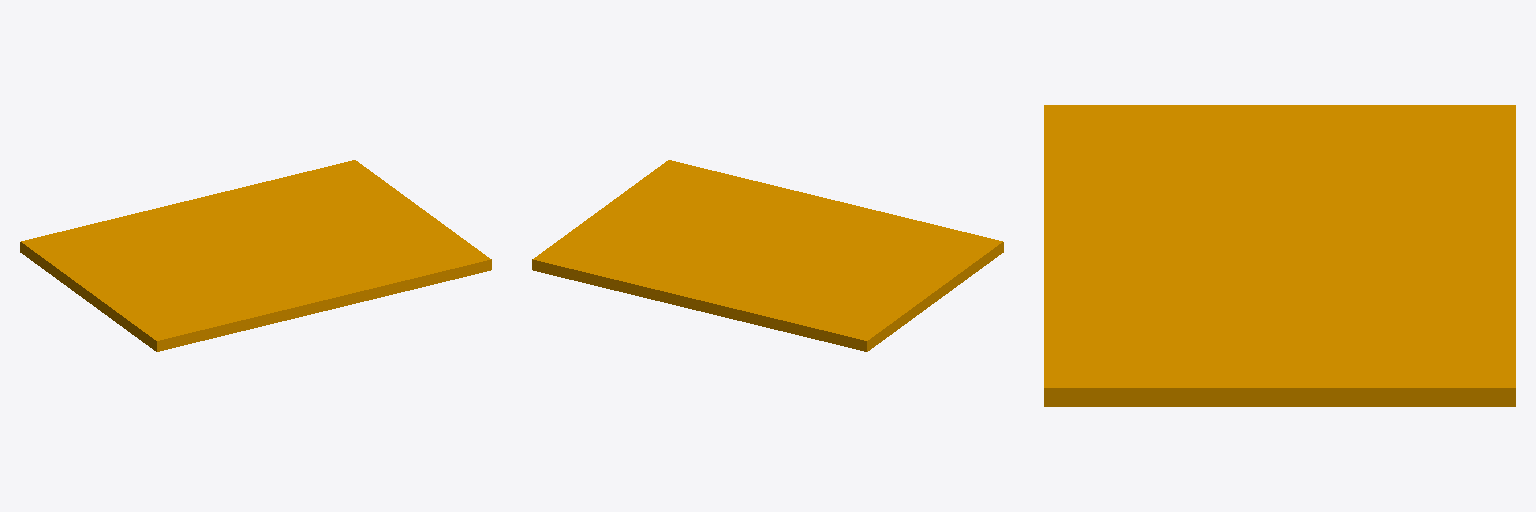
URDF robot description (box):
<?xml version="1.0" ?>
<robot name="box">
  <link name="base">
    <inertial>
      <origin rpy="0 0 0" xyz="0 0 0"/>
      <mass value=".1"/>
      <inertia ixx="0" ixy="0" ixz="0" iyy="0" iyz="0" izz="0"/>
    </inertial>
    <visual>
      <origin rpy="0 0 0" xyz="0 0 0"/>
      <geometry>
        <mesh filename="checkerboard.obj" scale="1 1 1"/>
      </geometry>
    </visual>
    <collision>
      <origin rpy="0 0 0" xyz="0 0 0"/>
      <geometry>
        <mesh filename="checkerboard.obj" scale="1 1 1"/>
      </geometry>
    </collision>
  </link>
</robot>

--- What the picture shows (computed from the rendered views, not written in the file) ---
Views: 3 orthographic renders of the robot side by side, from view 1: azimuth 30°, elevation 25°; view 2: azimuth 150°, elevation 25°; view 3: azimuth 270°, elevation 25°.
Model box with 1 links and 0 joints (none), rooted at base, posed every joint at zero.
Links seen in each view (by area): view 1: base; view 2: base; view 3: base.
Boxes of the visible links, x1,y1,x2,y2 form: base: (20, 160, 491, 351); base: (532, 160, 1003, 351); base: (1044, 105, 1515, 406).
Bounding box of the posed robot: 0.3186 × 0.2244 × 0.01 m (x, y, z).
Meshes: 1 distinct files referenced, 1 mesh visuals loaded (1 OBJ).